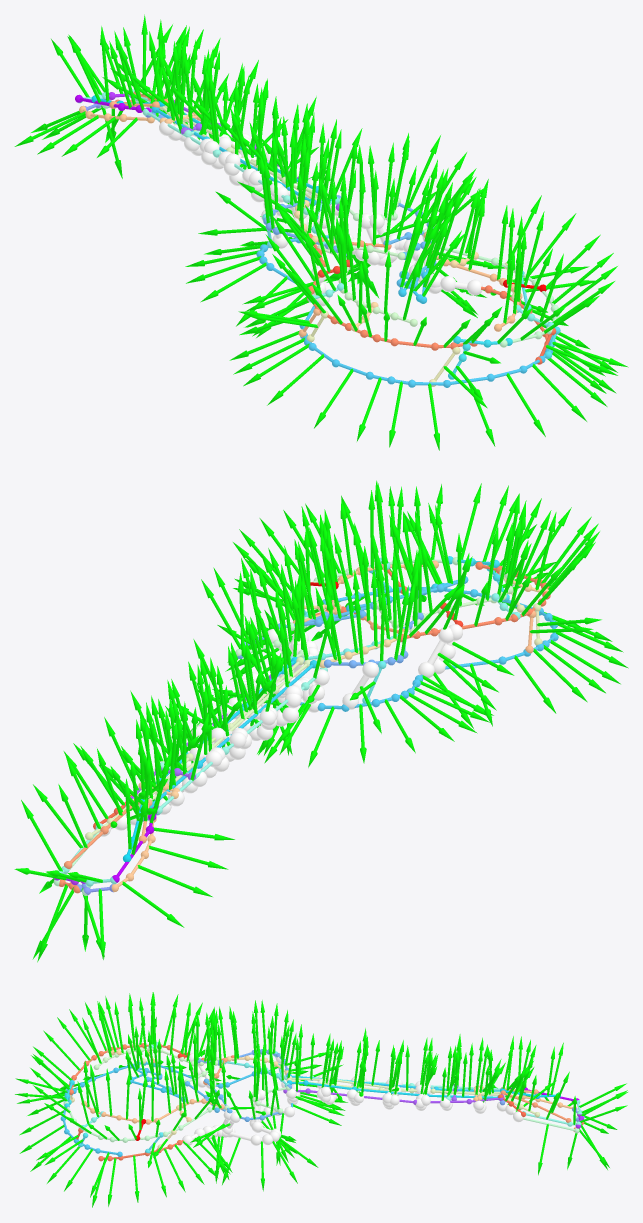
Rendered from author2_guitar.gltf.
3 renders of one model, top to bottom at view 1: azimuth 30°, elevation 25°; view 2: azimuth 150°, elevation 25°; view 3: azimuth 270°, elevation 25°, orthographic. The views are drawn at different scales.
Size of the model in its own units: 0.5082 by 0.2879 by 1.11.
